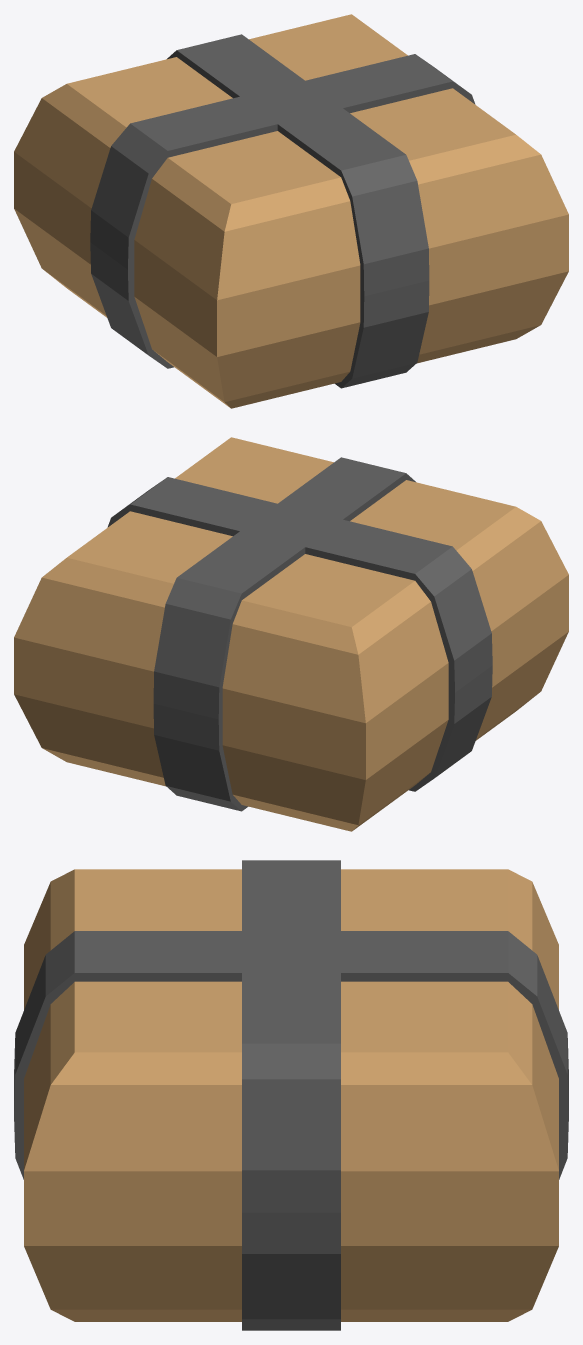
The model's file is Narcotic Package 1.fbx.
3 renders of one model, top to bottom at view 1: azimuth 30°, elevation 25°; view 2: azimuth 150°, elevation 25°; view 3: azimuth 270°, elevation 25°, orthographic. The views are drawn at different scales.
Visible parts, largest first — view 1: Narcotic Package 1, Tape; view 2: Narcotic Package 1, Tape; view 3: Narcotic Package 1, Tape.
Boxes of the visible parts, box(x1,y1,x2,y2) form: Narcotic Package 1: box(14, 14, 568, 408); Tape: box(90, 34, 475, 388); Narcotic Package 1: box(14, 437, 568, 831); Tape: box(107, 457, 492, 811); Narcotic Package 1: box(24, 869, 558, 1321); Tape: box(14, 860, 568, 1330).
Bounding box in the file's own units: 2.24 × 1.28 × 2.24.
